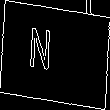N_S: (42, 28, 68, 82)
